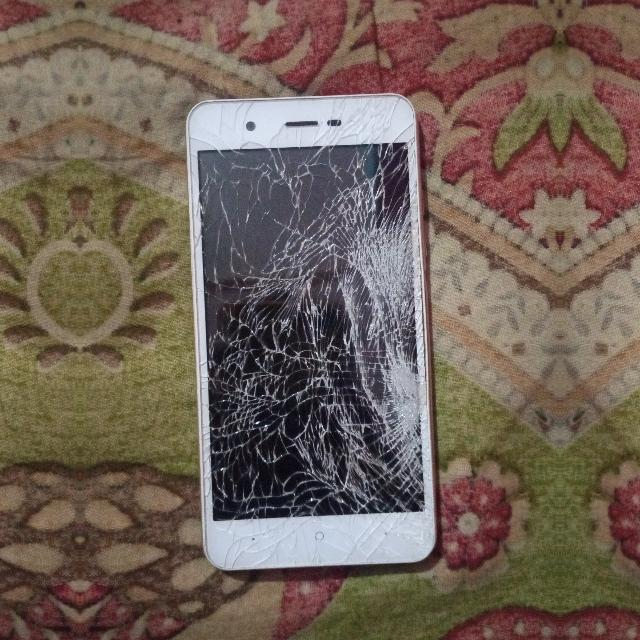phone_screen: (198, 143, 425, 520)
